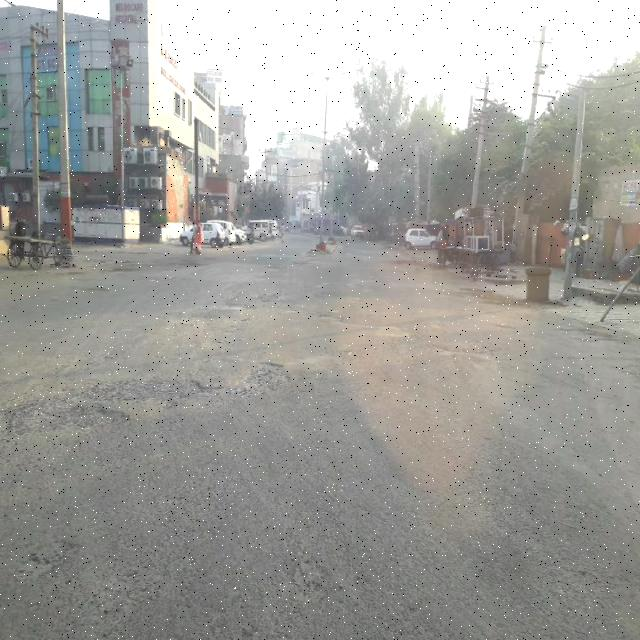D40: (5, 540, 375, 625), (0, 346, 306, 445)
